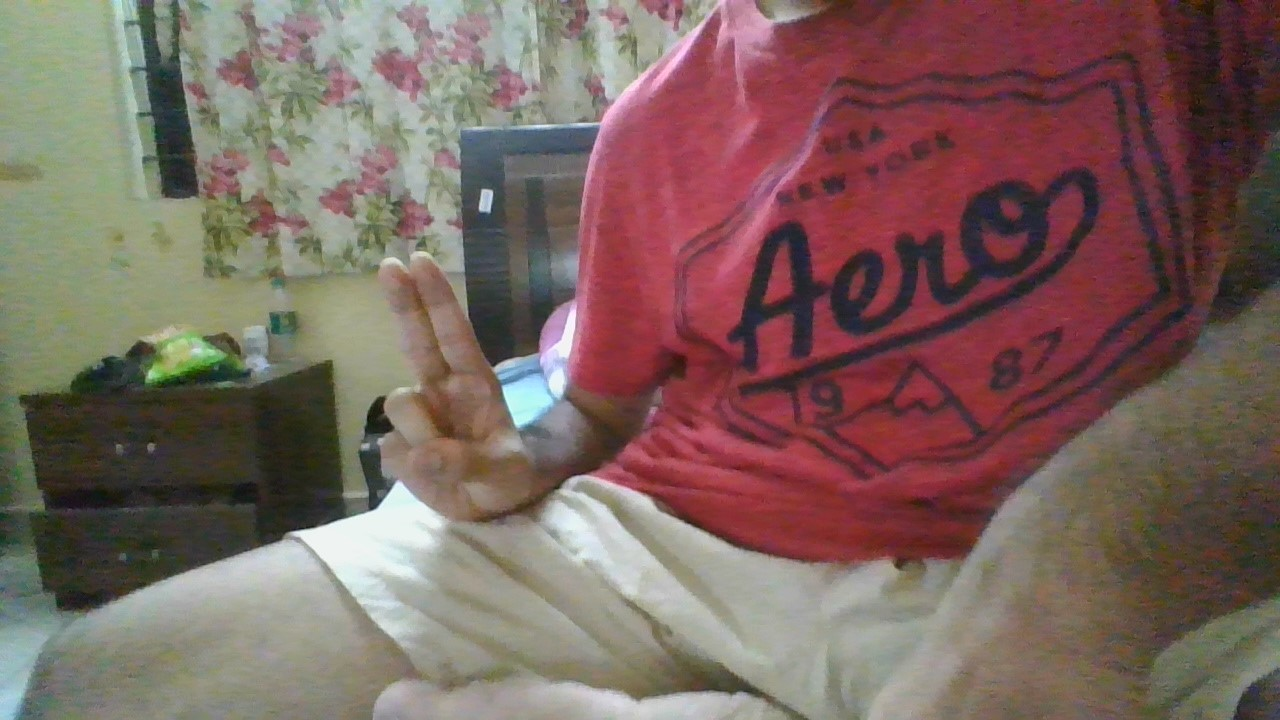u: (370, 245, 534, 525)
